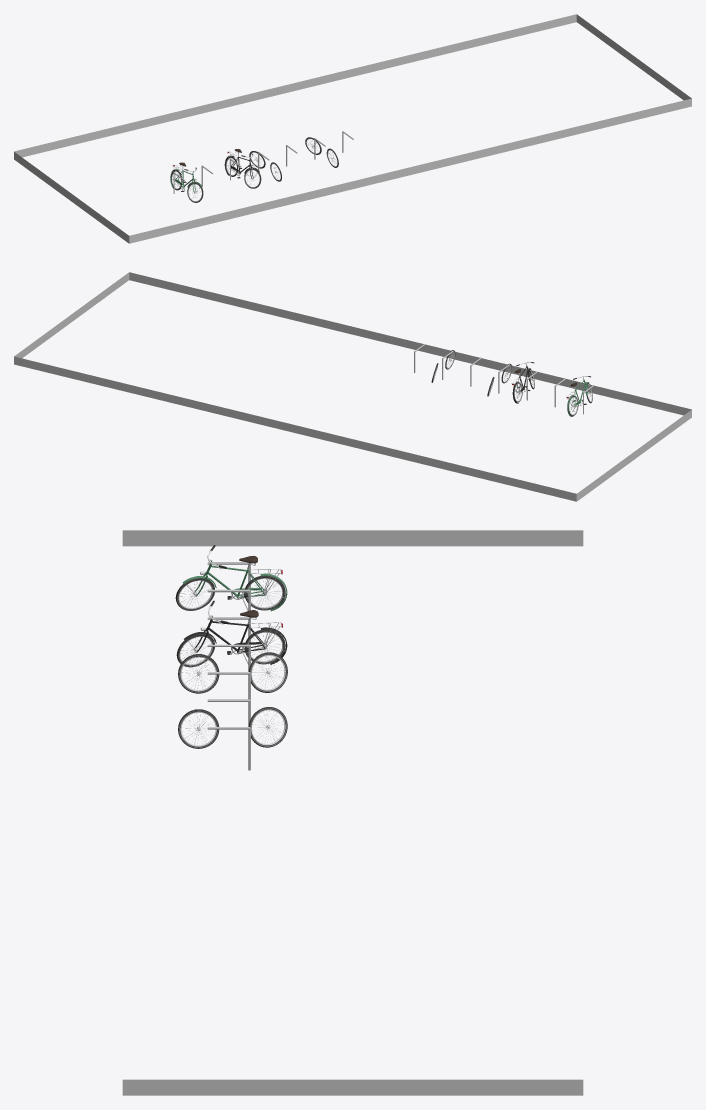
File: cell_1_1.glb
3 views of the same model, one above another, from view 1: azimuth 30°, elevation 25°; view 2: azimuth 150°, elevation 25°; view 3: azimuth 270°, elevation 25° (orthographic). The views are drawn at different scales.
Parts seen in each view (by area): view 1: cell_1_1; view 2: cell_1_1; view 3: cell_1_1.
Part boxes in pixels (left/top/right/bottom): cell_1_1: left=14, top=14, right=691, bottom=243; cell_1_1: left=14, top=272, right=691, bottom=501; cell_1_1: left=122, top=530, right=583, bottom=1095.
Bounding box in the file's own units: 22 × 1.45 × 7.8.
